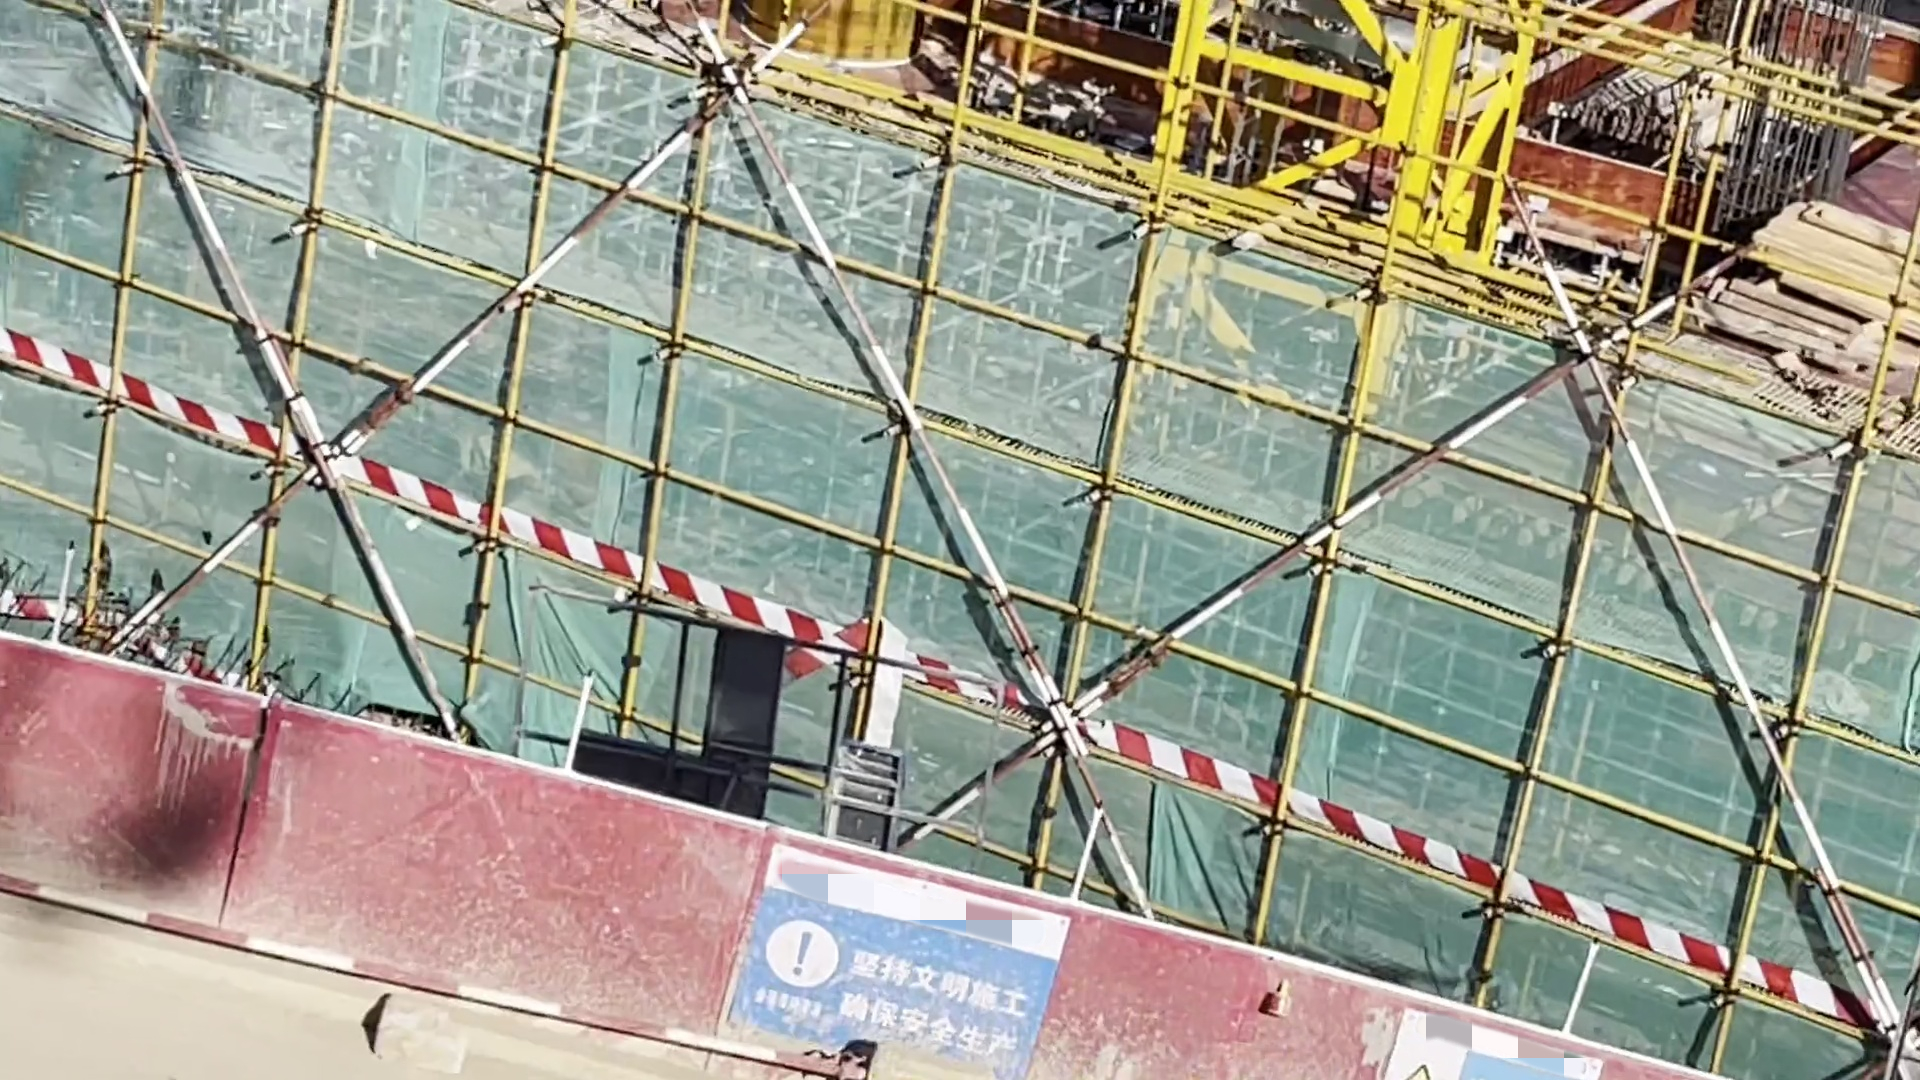fence: (268, 695, 1589, 1080), (1, 653, 276, 914)
slogan: (744, 849, 1040, 1073)
wood: (1758, 198, 1920, 357)
